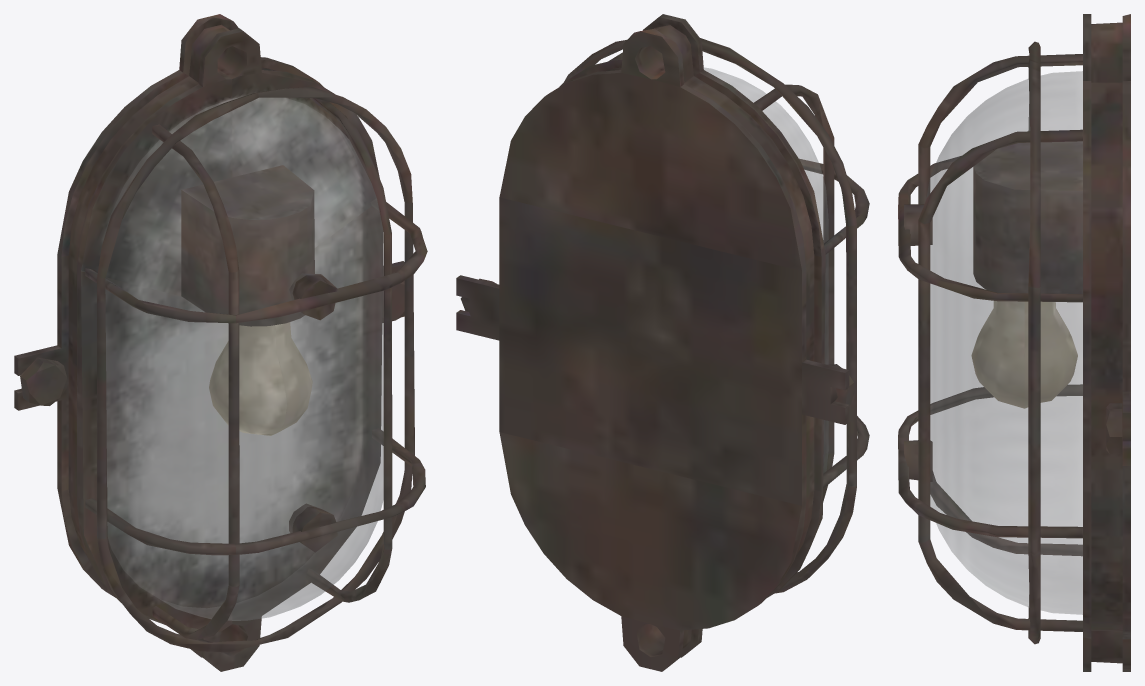
File: industrial_wall_lamp.glb
3 views of the same model, side by side, from view 1: azimuth 30°, elevation 25°; view 2: azimuth 150°, elevation 25°; view 3: azimuth 270°, elevation 25° (orthographic).
Visible parts, largest first — view 1: industrial_wall_lamp; view 2: industrial_wall_lamp; view 3: industrial_wall_lamp.
Boxes of the visible parts, x1,y1,x2,y2 form: industrial_wall_lamp: (14, 14, 427, 671); industrial_wall_lamp: (456, 14, 869, 671); industrial_wall_lamp: (898, 14, 1130, 671).
Size of the model in its own units: 0.2734 by 0.4283 by 0.1393.
2 materials, 2 textured.
